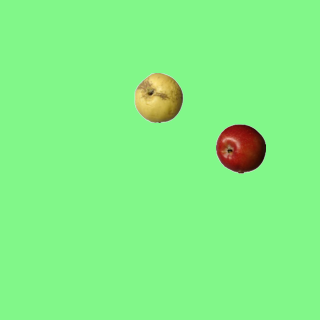Apple Braeburn: (215, 123, 265, 173)
Apple Golden 1: (133, 72, 183, 122)
